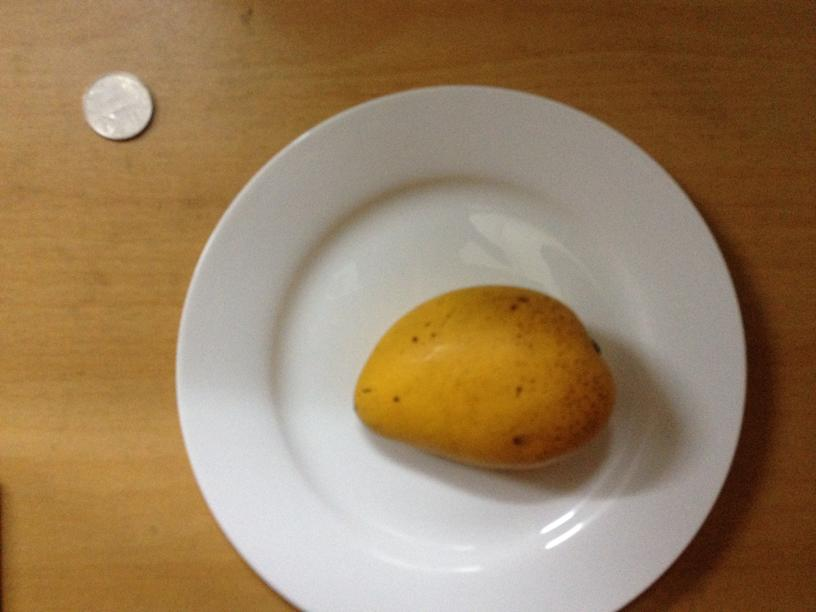coin: (83, 73, 153, 141)
mango: (356, 285, 613, 471)
